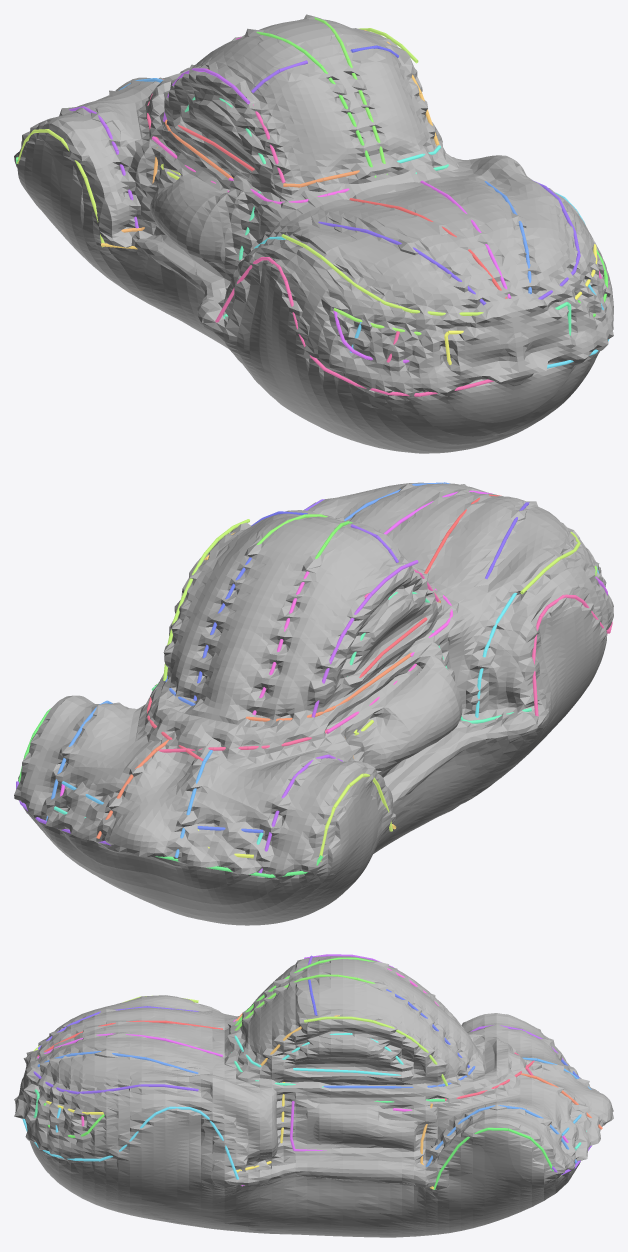
The model's file is author1_car.gltf.
3 views of the same model, one above another, from view 1: azimuth 30°, elevation 25°; view 2: azimuth 150°, elevation 25°; view 3: azimuth 270°, elevation 25° (orthographic). The views are drawn at different scales.
Bounding box in the file's own units: 0.4329 × 0.4143 × 0.8867.
